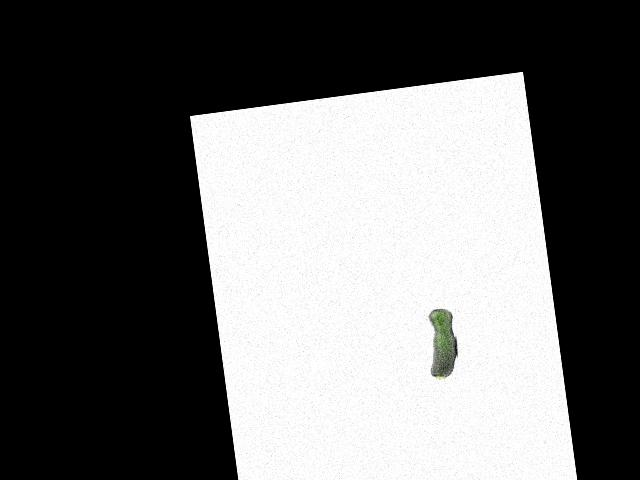cucumber: (422, 307, 461, 380)
